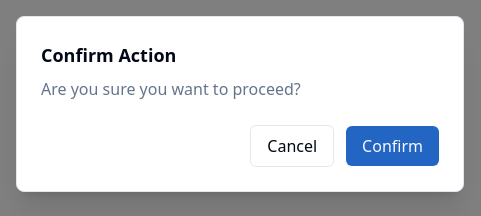
Test case: ConfirmDialog › should show loading state during async confirm
The width and height of the screenshot is (481, 216).
Click the button "Confirm".
click(393, 146)  # box [346,126,439,166]
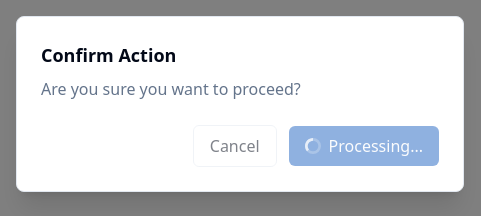
Expected: the text "Processing..." is shown, [305,134,423,158]
